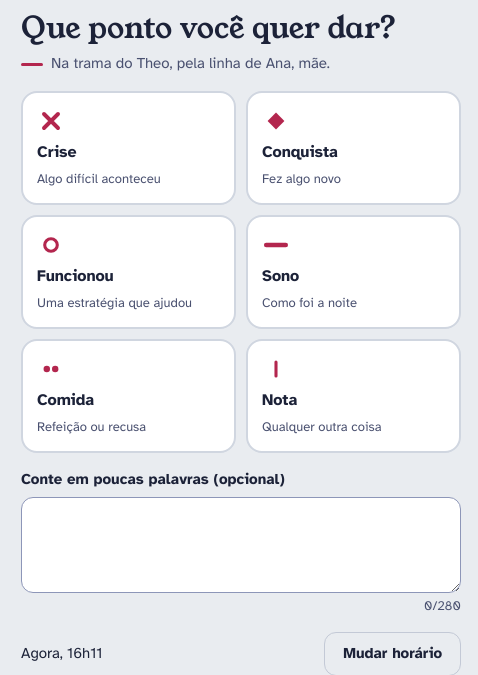
Test: "Tentar agora" mostra "Ponto dado." mesmo se um rascunho antigo continuar sem rede
This screenshot has width=478, height=675.
Click the button "Comida Refeição ou recusa". click: (128, 396)
box: [21, 339, 236, 453]
(page scrolled)
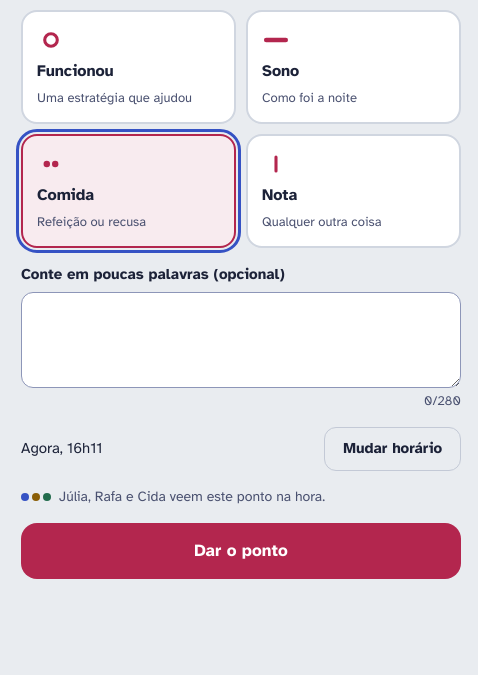
Click the button "Dar o ponto". click: (241, 551)
box: [21, 523, 461, 579]
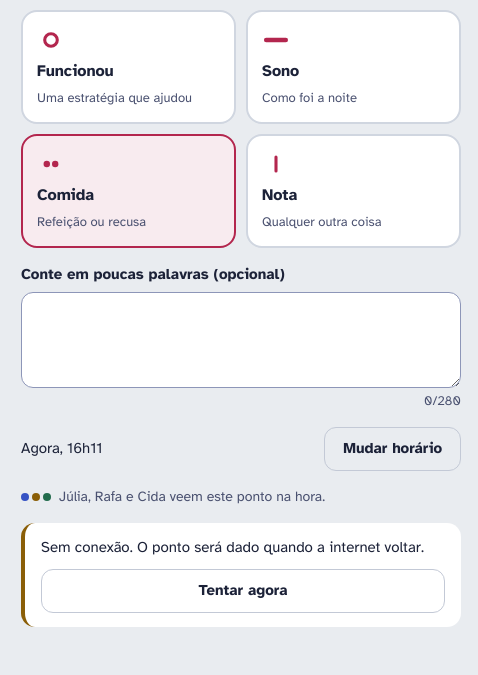
Click the button "Tentar agora". click: (243, 591)
box: [41, 569, 445, 613]
(page scrolled)
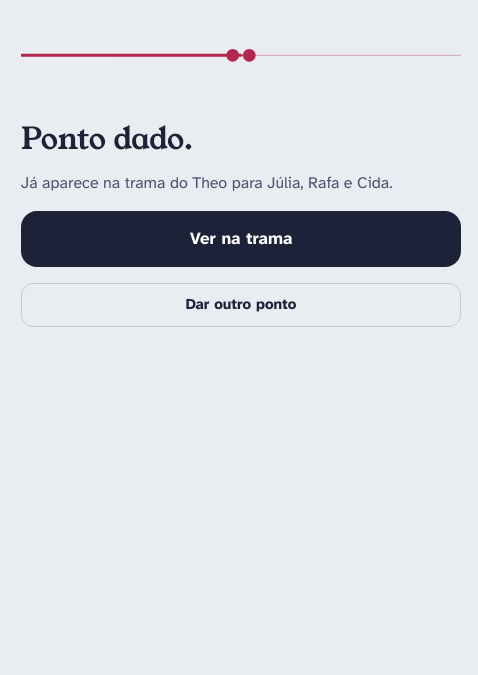
Result: the heading "Ponto dado." is shown at [21, 118, 193, 160]
